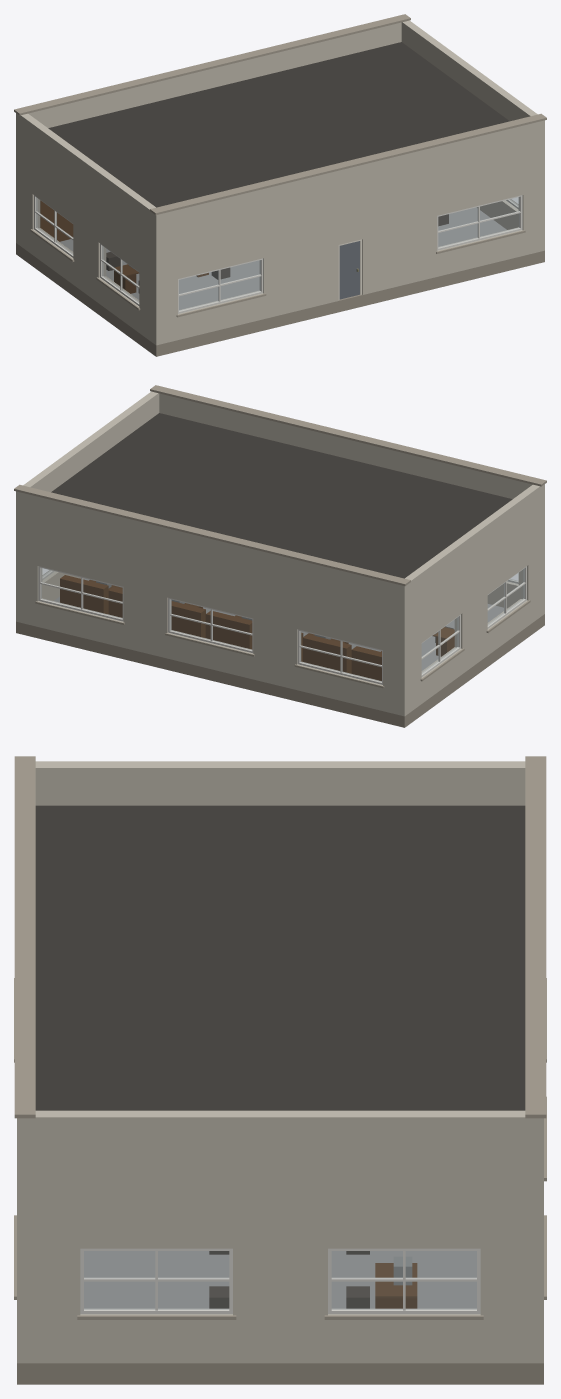
The model's file is jetty_control_house.glb.
3 views of the same model, one above another, from view 1: azimuth 30°, elevation 25°; view 2: azimuth 150°, elevation 25°; view 3: azimuth 270°, elevation 25° (orthographic). The views are drawn at different scales.
Parts seen in each view (by area): view 1: LOD0, FURN, LEAF0; view 2: LOD0, FURN; view 3: LOD0, FURN.
Part boxes in pixels (left/top/right/bottom): LOD0: left=14, top=14, right=546, bottom=356; FURN: left=40, top=200, right=448, bottom=293; LEAF0: left=339, top=241, right=359, bottom=299; LOD0: left=14, top=385, right=546, bottom=727; FURN: left=60, top=575, right=454, bottom=680; LOD0: left=14, top=756, right=546, bottom=1384; FURN: left=209, top=1251, right=417, bottom=1308.
Size of what is drawn, in the model's own units: 16.12 by 5.68 by 10.12.
